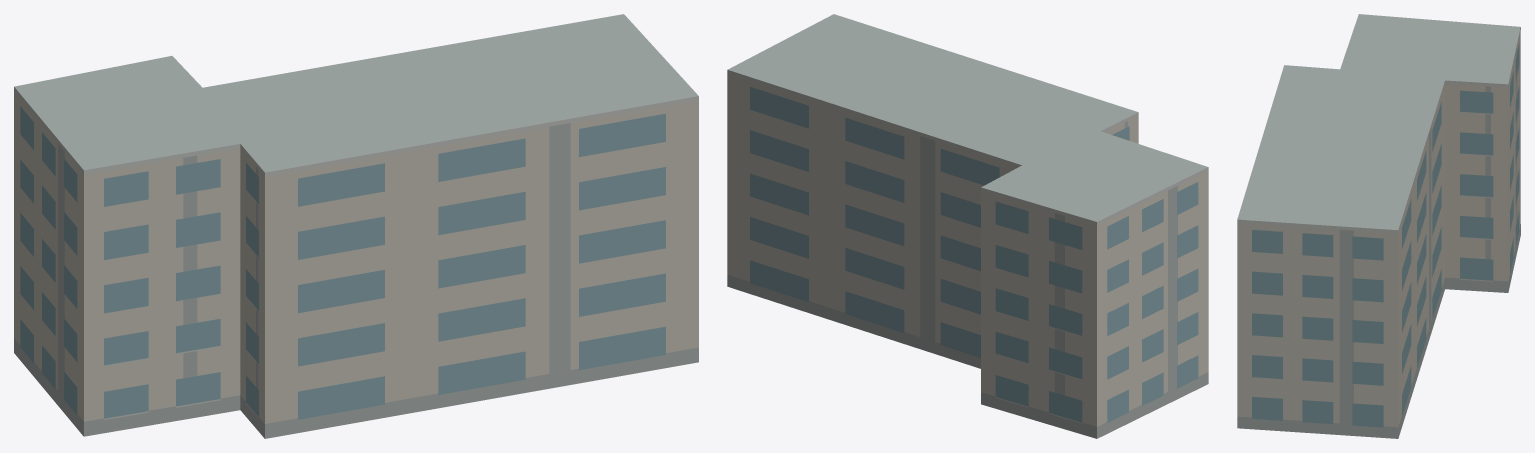
Rendered from survey-upis-32666716.glb.
3 views of the same model, side by side, from view 1: azimuth 30°, elevation 25°; view 2: azimuth 150°, elevation 25°; view 3: azimuth 270°, elevation 25° (orthographic). The views are drawn at different scales.
Parts seen in each view (by area): view 1: survey-upis-32666716.tmp; view 2: survey-upis-32666716.tmp; view 3: survey-upis-32666716.tmp.
Boxes of the visible parts, left/top/right/bottom form: survey-upis-32666716.tmp: left=14, top=14, right=698, bottom=438; survey-upis-32666716.tmp: left=727, top=14, right=1208, bottom=438; survey-upis-32666716.tmp: left=1237, top=14, right=1520, bottom=438.
Size of the model in its own units: 33.89 by 15.25 by 18.79.
